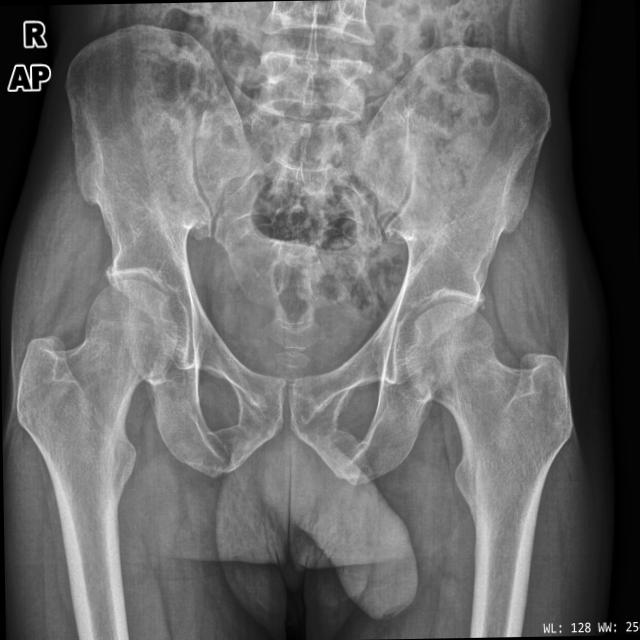normal-left: (404, 302, 573, 637)
normal-right: (16, 278, 178, 640)
